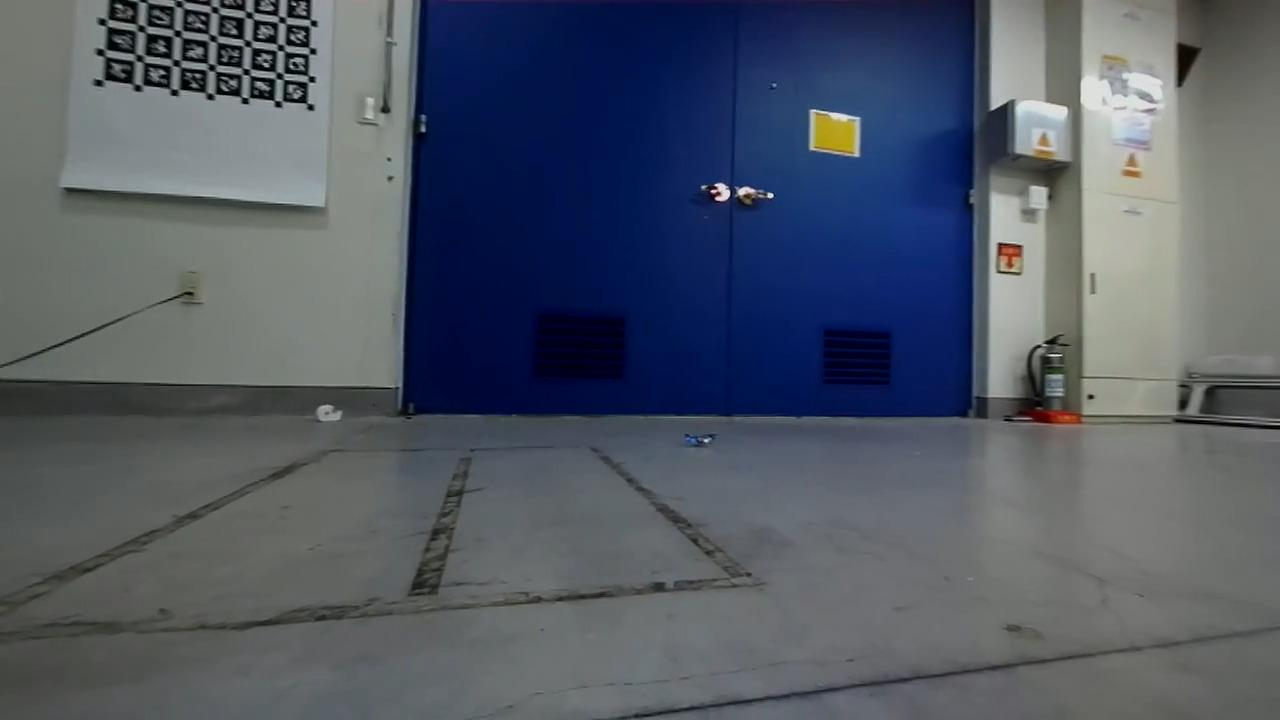crazyflie: (674, 422, 726, 452)
